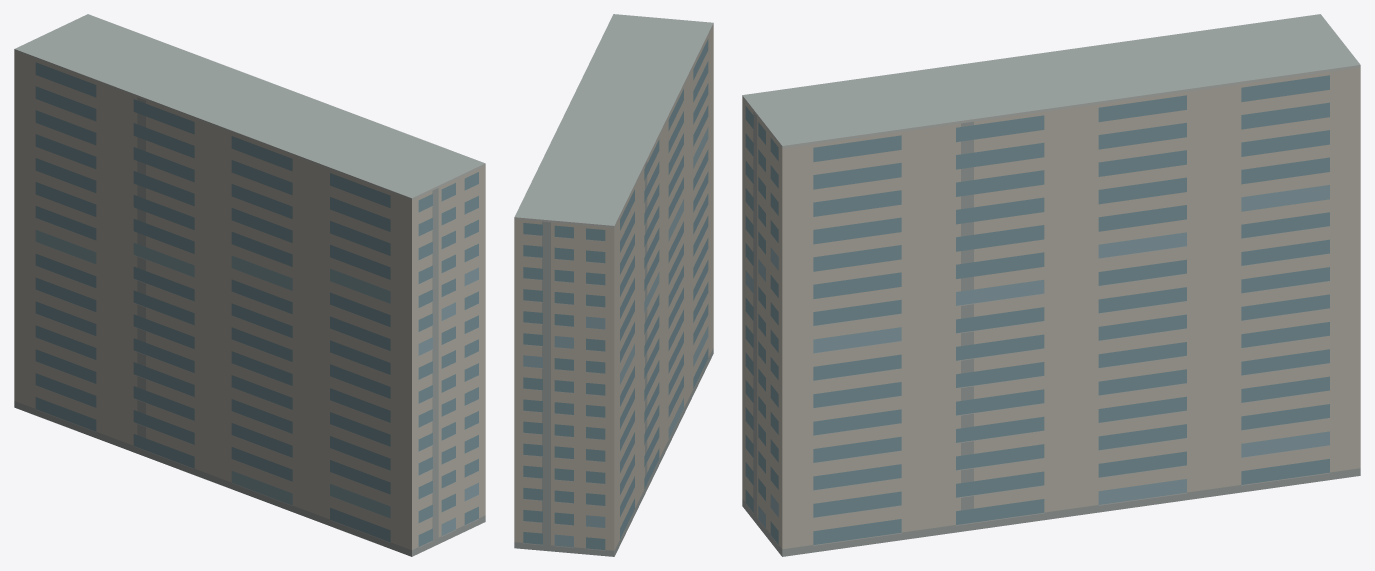
File: residential-de46baf6-6ea3-4c09-a8c7-1ff4c0a8dee1.glb
The picture shows the model from 3 angles, left to right: view 1: azimuth 30°, elevation 25°; view 2: azimuth 150°, elevation 25°; view 3: azimuth 270°, elevation 25°; orthographic projection. The views are drawn at different scales.
Visible parts, largest first — view 1: residential-de46baf6-6ea3-4c09-a8c7-1ff4c0a8dee1.tmp; view 2: residential-de46baf6-6ea3-4c09-a8c7-1ff4c0a8dee1.tmp; view 3: residential-de46baf6-6ea3-4c09-a8c7-1ff4c0a8dee1.tmp.
Boxes of the visible parts, x1,y1,x2,y2 form: residential-de46baf6-6ea3-4c09-a8c7-1ff4c0a8dee1.tmp: [14, 14, 485, 556]; residential-de46baf6-6ea3-4c09-a8c7-1ff4c0a8dee1.tmp: [514, 14, 713, 556]; residential-de46baf6-6ea3-4c09-a8c7-1ff4c0a8dee1.tmp: [742, 14, 1360, 556].
Bounding box in the file's own units: 27.57 × 40 × 54.57.
